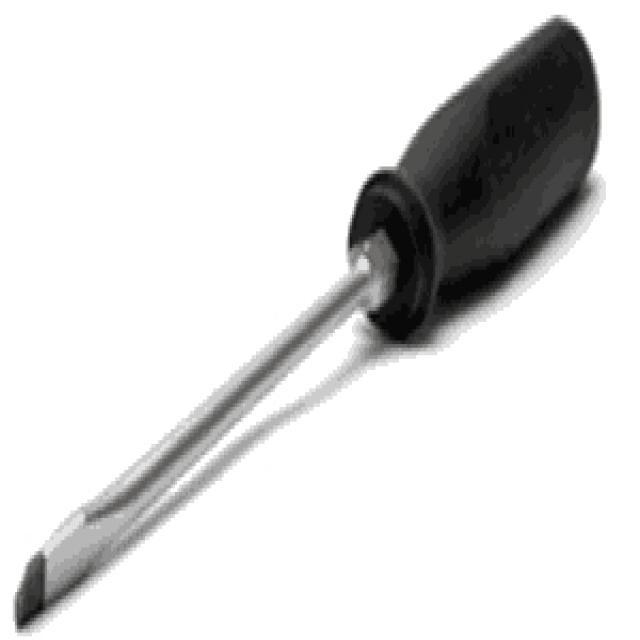screwdriver: (1, 7, 610, 626)
